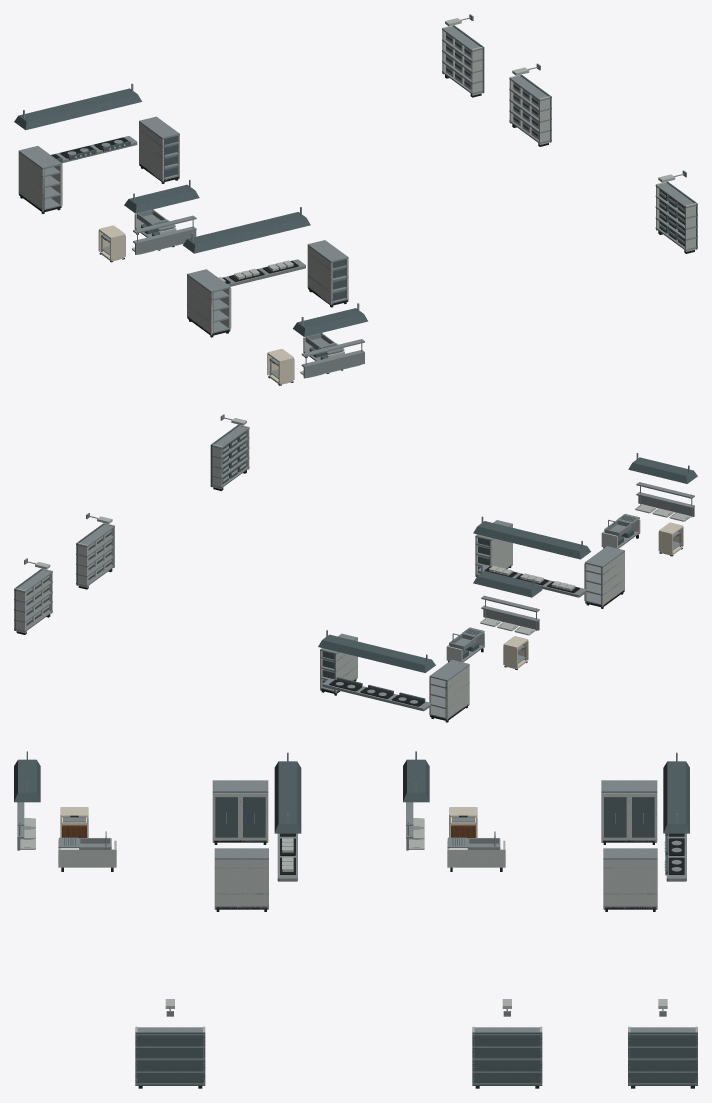
File: G8_ORCHARD_SERVICE_r002_unbatched.glb
3 views of the same model, one above another, from view 1: azimuth 30°, elevation 25°; view 2: azimuth 150°, elevation 25°; view 3: azimuth 270°, elevation 25° (orthographic). The views are drawn at different scales.
Visible parts, largest first — view 1: G8O_SouthFinish_Hood_Shroud, G8O_NorthFinish_Hood_Shroud, G8O_NorthPrep_TaskHood_Shroud, G8O_SouthPrep_TaskHood_Shroud, G8O_NorthChill_Side-1, G8O_SouthChill_Side-1, G8O_SouthDry_Side-1, G8O_NorthDry_Side-1, G8O_SouthPrep_BackUpstand, G8O_NorthPrep_BackUpstand; view 2: G8O_SouthFinish_Hood_Shroud, G8O_NorthFinish_Hood_Shroud, G8O_NorthPrep_TaskHood_Shroud, G8O_SouthPrep_TaskHood_Shroud, G8O_NorthChill_Side-1, G8O_SouthChill_Side-1, G8O_NorthDry_Side-1, G8O_SouthDry_Side-1, G8O_NorthFinish_WeightedDeck; view 3: G8O_DryDelivery_Rear, G8O_UsedReturn_Rear, G8O_CleanDelivery_Rear, G8O_NorthDry_Side1, G8O_SouthDry_Side1, G8O_SouthFinish_Hood_Shroud, G8O_NorthFinish_Hood_Shroud, G8O_SouthPrep_TaskHood_Shroud, G8O_NorthPrep_TaskHood_Shroud, G8O_NorthWash_RearPanel, G8O_SouthWash_RearPanel, G8O_NorthChill_DoorReveal-1 (+10 smaller).
Boxes of the visible parts, left/top/right/bottom form: G8O_SouthFinish_Hood_Shroud: left=183, top=212, right=310, bottom=253; G8O_NorthFinish_Hood_Shroud: left=14, top=88, right=142, bottom=130; G8O_NorthPrep_TaskHood_Shroud: left=124, top=184, right=199, bottom=213; G8O_SouthPrep_TaskHood_Shroud: left=293, top=308, right=368, bottom=336; G8O_NorthChill_Side-1: left=18, top=152, right=44, bottom=211; G8O_SouthChill_Side-1: left=187, top=275, right=212, bottom=335; G8O_SouthDry_Side-1: left=307, top=246, right=332, bottom=304; G8O_NorthDry_Side-1: left=139, top=122, right=163, bottom=181; G8O_SouthPrep_BackUpstand: left=303, top=353, right=364, bottom=378; G8O_NorthPrep_BackUpstand: left=135, top=230, right=196, bottom=254; G8O_SouthFinish_Hood_Shroud: left=473, top=521, right=590, bottom=559; G8O_NorthFinish_Hood_Shroud: left=318, top=634, right=435, bottom=672; G8O_NorthPrep_TaskHood_Shroud: left=473, top=571, right=542, bottom=597; G8O_SouthPrep_TaskHood_Shroud: left=628, top=457, right=697, bottom=483; G8O_NorthChill_Side-1: left=446, top=665, right=469, bottom=720; G8O_SouthChill_Side-1: left=601, top=552, right=624, bottom=606; G8O_NorthDry_Side-1: left=334, top=639, right=357, bottom=693; G8O_SouthDry_Side-1: left=490, top=525, right=512, bottom=568; G8O_NorthFinish_WeightedDeck: left=322, top=678, right=431, bottom=711; G8O_DryDelivery_Rear: left=472, top=1032, right=542, bottom=1085; G8O_UsedReturn_Rear: left=135, top=1032, right=205, bottom=1085; G8O_CleanDelivery_Rear: left=628, top=1032, right=697, bottom=1085; G8O_NorthDry_Side1: left=603, top=859, right=657, bottom=908; G8O_SouthDry_Side1: left=214, top=859, right=268, bottom=908; G8O_SouthFinish_Hood_Shroud: left=274, top=761, right=301, bottom=833; G8O_NorthFinish_Hood_Shroud: left=663, top=761, right=689, bottom=833; G8O_SouthPrep_TaskHood_Shroud: left=14, top=759, right=40, bottom=802; G8O_NorthPrep_TaskHood_Shroud: left=403, top=759, right=429, bottom=802; G8O_NorthWash_RearPanel: left=447, top=849, right=505, bottom=867; G8O_SouthWash_RearPanel: left=58, top=849, right=116, bottom=867; G8O_NorthChill_DoorReveal-1: left=632, top=797, right=654, bottom=837.
Bounding box in the file's own units: 23.42 × 3.81 × 26.39.
13 materials, 12 textured.
